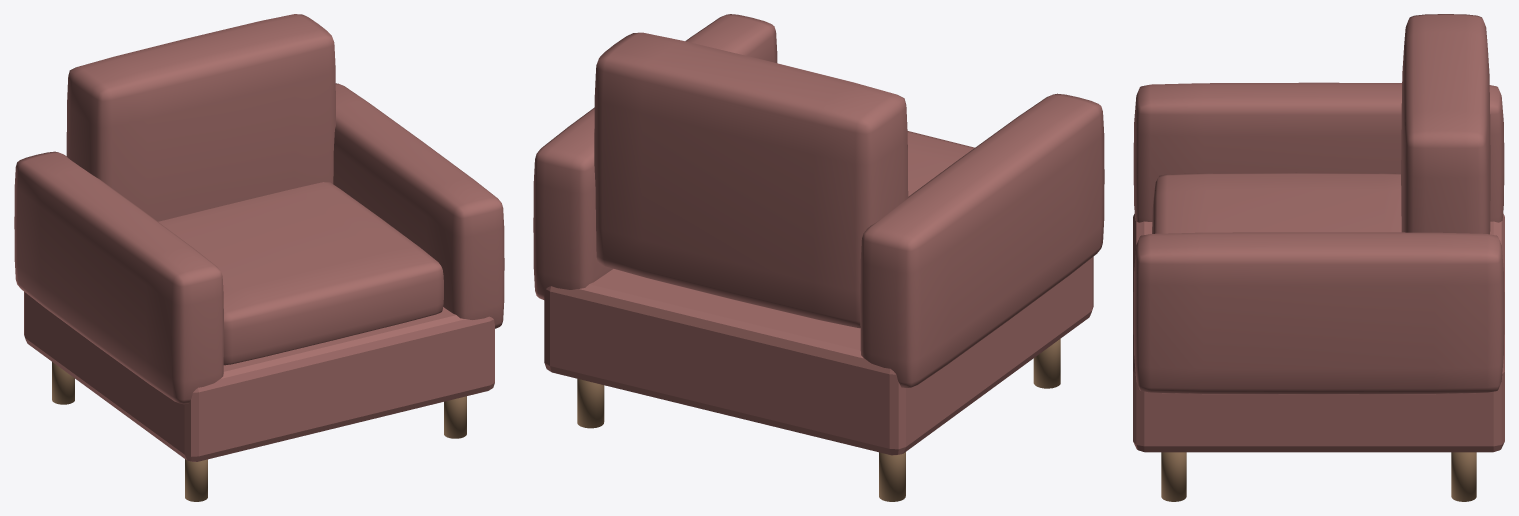
File: armchair_worn.glb
3 views of the same model, side by side, from view 1: azimuth 30°, elevation 25°; view 2: azimuth 150°, elevation 25°; view 3: azimuth 270°, elevation 25° (orthographic). The views are drawn at different scales.
Parts seen in each view (by area): view 1: BackCushion, ChairBase, Arm_-1, SeatCushion, Arm_1, Leg_-1_-0.32, Leg_1_-0.32, Leg_-1_0.32; view 2: BackCushion, ChairBase, Arm_-1, Arm_1, SeatCushion, Leg_1_0.32, Leg_-1_0.32, Leg_-1_-0.32; view 3: Arm_1, Arm_-1, ChairBase, BackCushion, SeatCushion, Leg_1_-0.32, Leg_1_0.32.
Part boxes in pixels (bbox=[...]): BackCushion: bbox=[66, 14, 335, 221]; ChairBase: bbox=[24, 291, 494, 461]; Arm_-1: bbox=[14, 151, 223, 404]; SeatCushion: bbox=[158, 182, 443, 365]; Arm_1: bbox=[333, 83, 504, 328]; Leg_-1_-0.32: bbox=[185, 459, 207, 501]; Leg_1_-0.32: bbox=[444, 396, 466, 438]; Leg_-1_0.32: bbox=[52, 362, 74, 404]; BackCushion: bbox=[594, 32, 908, 328]; ChairBase: bbox=[544, 256, 1093, 455]; Arm_-1: bbox=[860, 93, 1104, 387]; Arm_1: bbox=[533, 14, 777, 299]; SeatCushion: bbox=[907, 131, 974, 196]; Leg_1_0.32: bbox=[577, 379, 604, 428]; Leg_-1_0.32: bbox=[879, 452, 905, 501]; Leg_-1_-0.32: bbox=[1033, 339, 1060, 388]; Arm_1: bbox=[1133, 232, 1504, 394]; Arm_-1: bbox=[1133, 82, 1504, 222]; ChairBase: bbox=[1133, 214, 1504, 452]; BackCushion: bbox=[1401, 14, 1490, 234]; SeatCushion: bbox=[1152, 172, 1401, 233]; Leg_1_-0.32: bbox=[1161, 452, 1186, 501]; Leg_1_0.32: bbox=[1451, 452, 1476, 501].
Bounding box in the file's own units: 0.9283 × 0.869 × 0.82.
